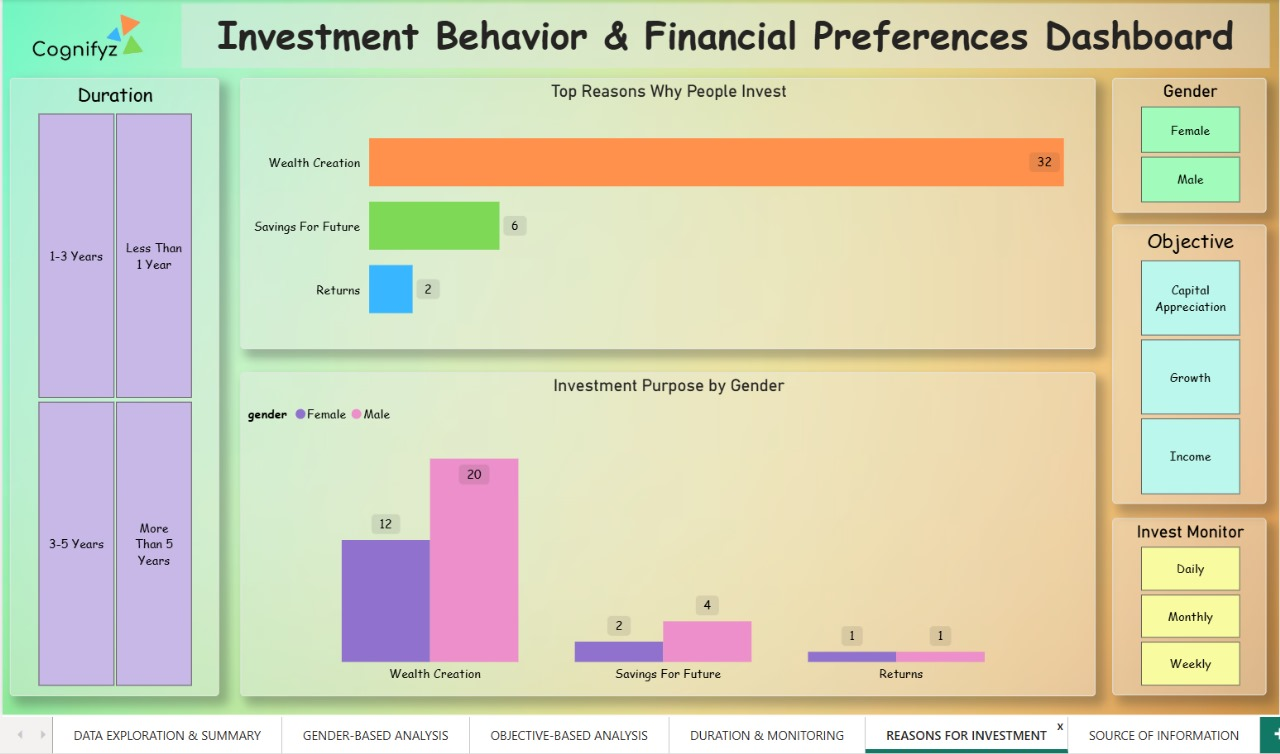

The dashboard page shown, as its layout file describes it:
{"tool":"powerbi","page":{"name":"REASONS FOR INVESTMENT","canvas":[1280,720],"ordinal":4},"visuals":[{"type":"textbox","box":[179.7,3.7,1090.7,64.8],"z":0},{"type":"image","box":[7.3,8.6,156.5,59.9],"z":1000},{"type":"slicer","title":"Gender","fields":{"Values":["Data.gender"]},"box":[1111.6,79.1,154.7,134.9],"z":2000},{"type":"slicer","title":"Duration","fields":{"Values":["Data.Duration"]},"box":[7,79.1,209.3,619.8],"z":3000},{"type":"slicer","title":"Invest Monitor","fields":{"Values":["Data.Invest_Monitor"]},"box":[1111.6,519.8,154.7,177.9],"z":4000},{"type":"slicer","title":"Objective","fields":{"Values":["Data.Objective"]},"box":[1111.6,225.6,154.7,280.2],"z":5000},{"type":"barChart","title":"Top Reasons Why People Invest","fields":{"Category":["Data.Purpose"],"Y":["CountNonNull(Data.Purpose)"]},"box":[238.4,79.1,857,272.1],"z":6000},{"type":"clusteredColumnChart","title":"Investment Purpose by Gender","fields":{"Category":["Data.Purpose"],"Y":["CountNonNull(Data.Purpose)"],"Series":["Data.gender"]},"box":[238.4,374.4,857,324.4],"z":7000}]}

Visuals, with their boxes on the page's 1280x720 design canvas (x1, y1, x2, y2). These are canvas units, not pixel positions in the 1280x754 screenshot, which may show the page scaled, cropped or inside an application window:
textbox: pyautogui.locateOnScreen(180, 4, 1270, 68)
image: pyautogui.locateOnScreen(7, 9, 164, 68)
"Gender" slicer: pyautogui.locateOnScreen(1112, 79, 1266, 214)
"Duration" slicer: pyautogui.locateOnScreen(7, 79, 216, 699)
"Invest Monitor" slicer: pyautogui.locateOnScreen(1112, 520, 1266, 698)
"Objective" slicer: pyautogui.locateOnScreen(1112, 226, 1266, 506)
"Top Reasons Why People Invest" barChart: pyautogui.locateOnScreen(238, 79, 1095, 351)
"Investment Purpose by Gender" clusteredColumnChart: pyautogui.locateOnScreen(238, 374, 1095, 699)
